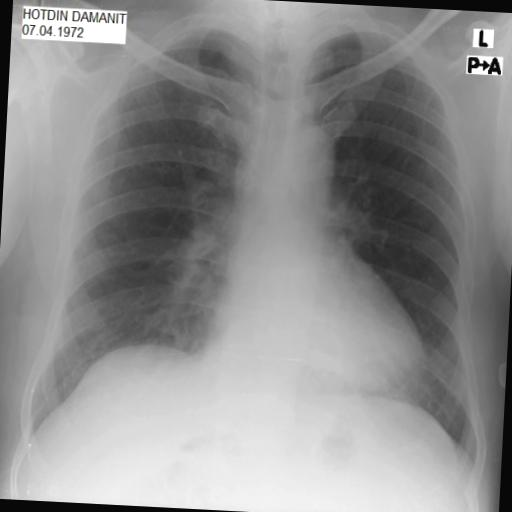kardiomegali: (18, 0, 512, 478)
